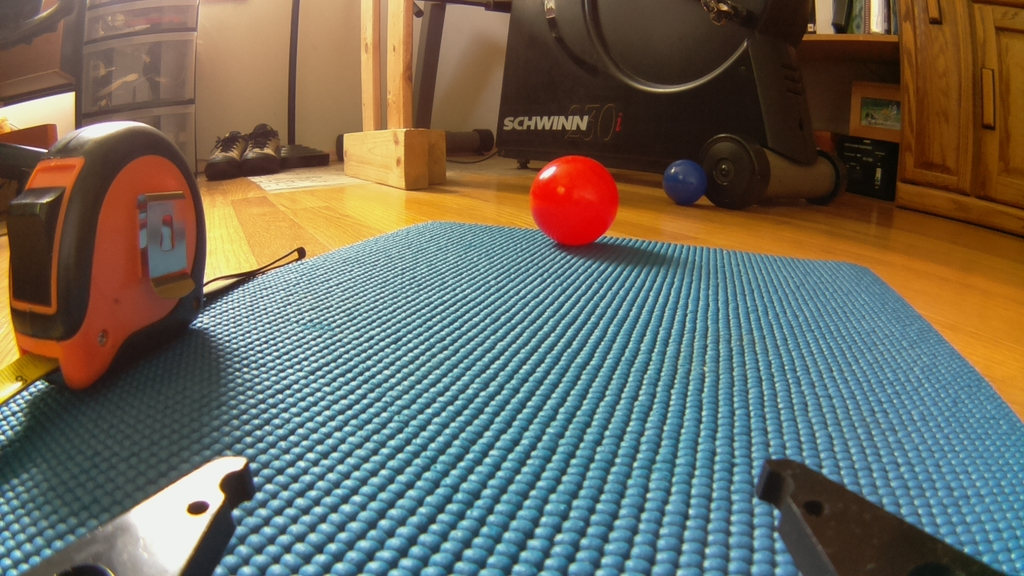ball: (527, 155, 620, 247)
